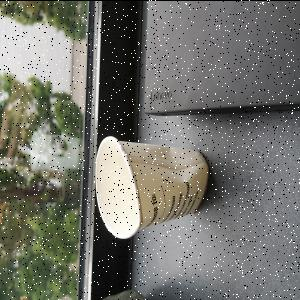Cup: (96, 135, 212, 241)
